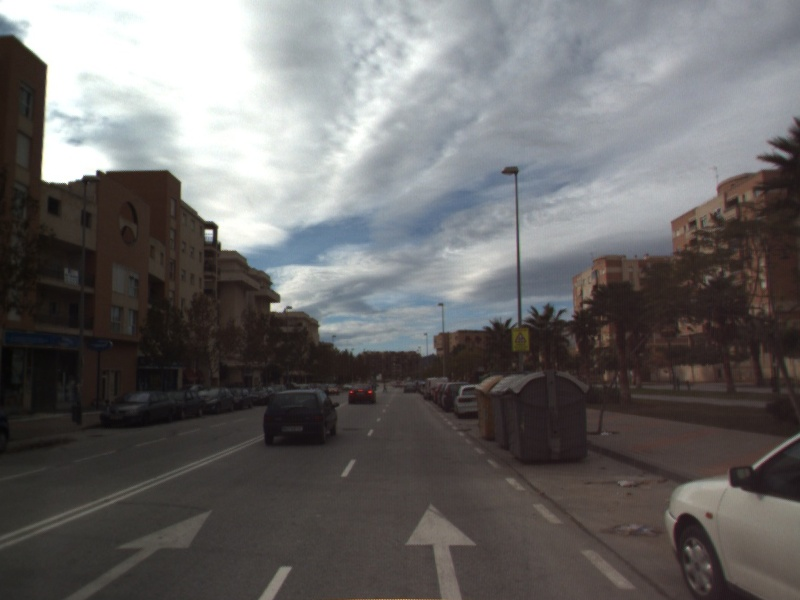STRAIGHT: (58, 507, 215, 600), (402, 500, 480, 600)
